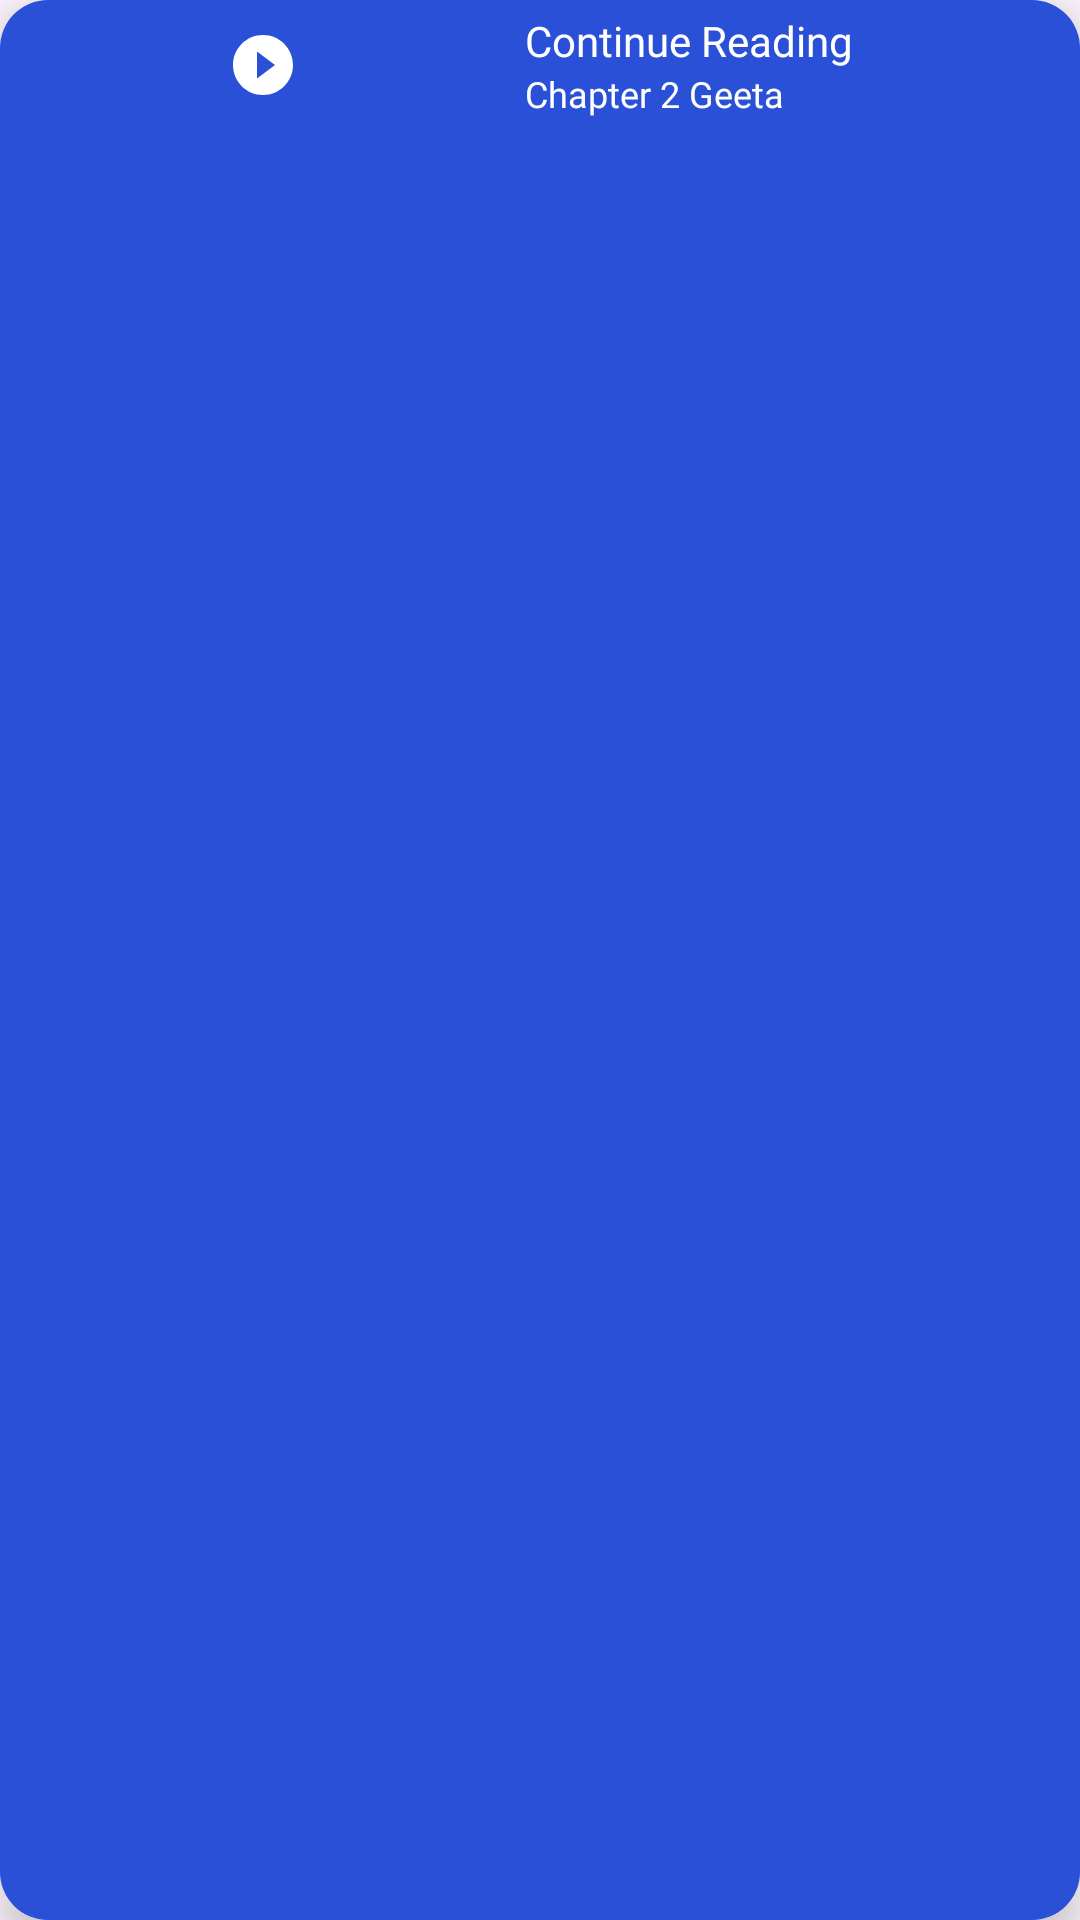

Locate icon controls on the screen. Image size 1080*1920, boxes as [x1,y1,x2,y2].
play circle: [233,35,293,95]
